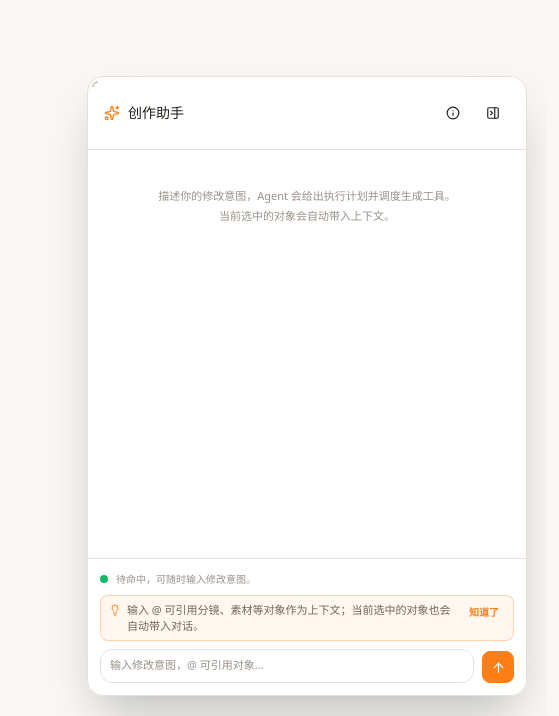
AgentDock origin/main visible fidelity › resizes from the top and left handles and closes with Escape
The image size is (559, 716).
Press the mouse on the element titled "拖拽调整大小": (95, 84) [92, 81, 98, 87]
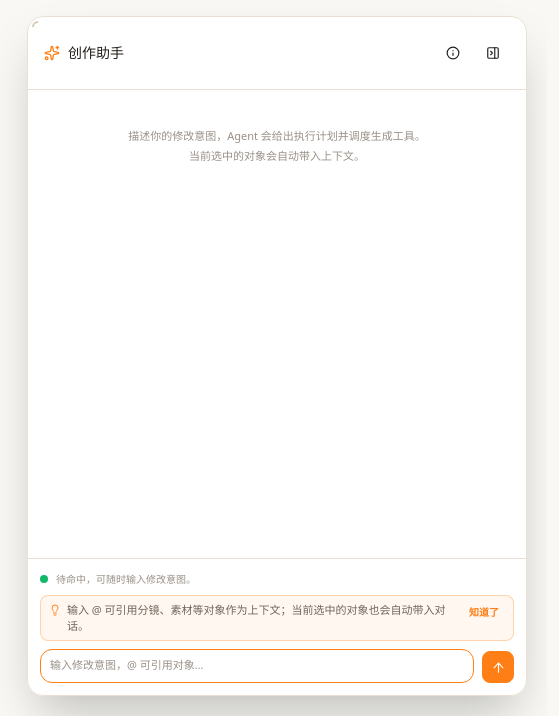
Press Escape
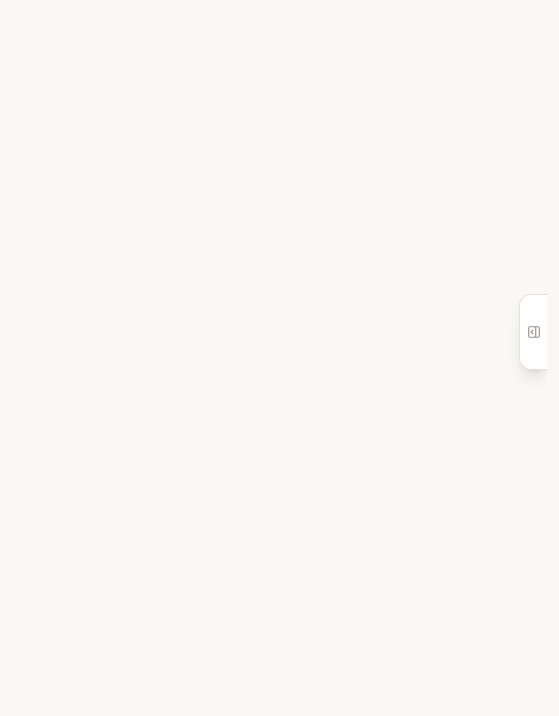
Expected: the button named "打开 Agent" is shown, [519, 294, 547, 370]
